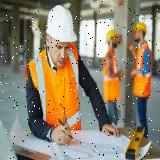Helmet: (46, 5, 77, 43), (105, 28, 118, 42), (133, 22, 147, 33)
Vest: (24, 44, 82, 132), (132, 40, 152, 98), (102, 47, 120, 101)
